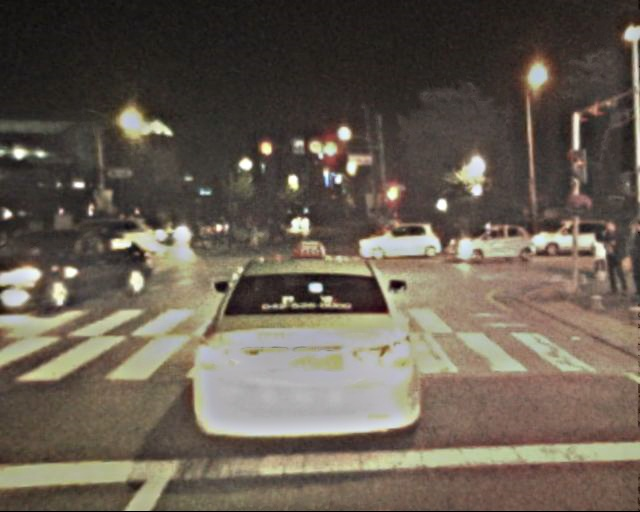person: (602, 221, 632, 295), (185, 214, 236, 248), (589, 231, 610, 281), (262, 215, 289, 251), (240, 213, 256, 251), (152, 215, 166, 250)
